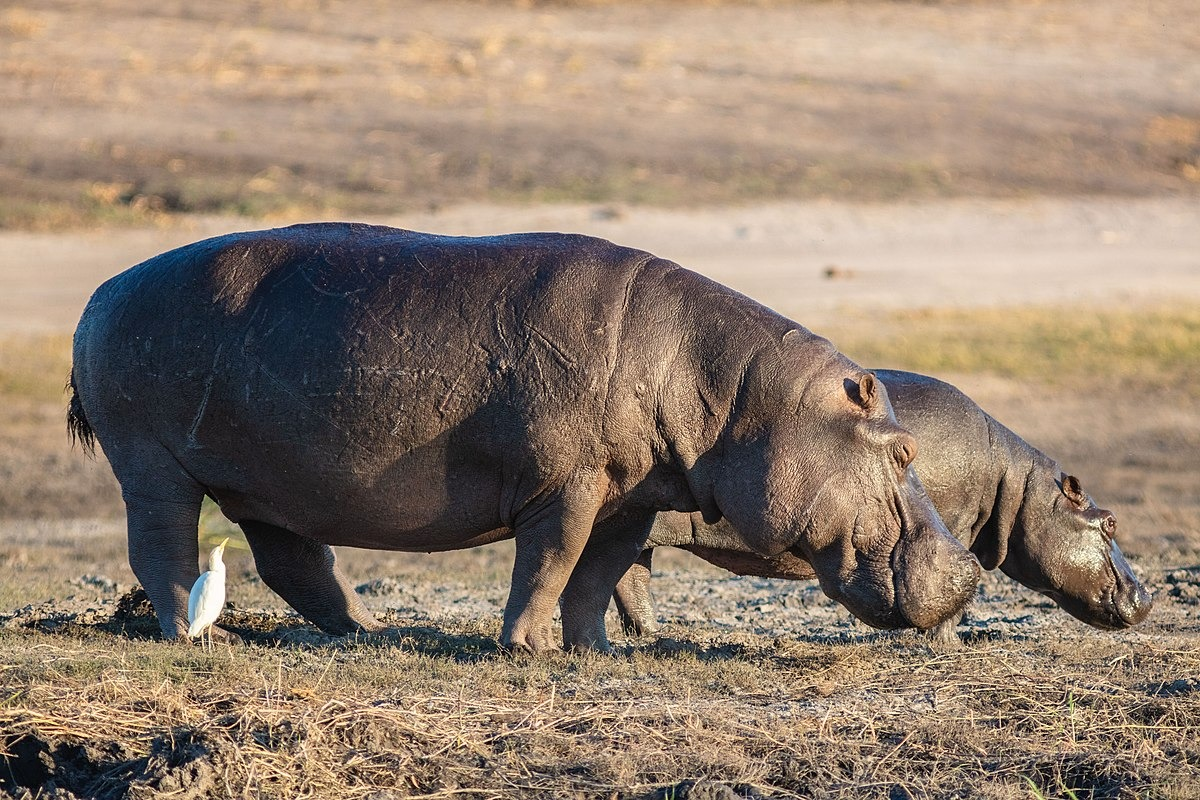hippo: (61, 198, 981, 675), (846, 368, 1149, 634)
